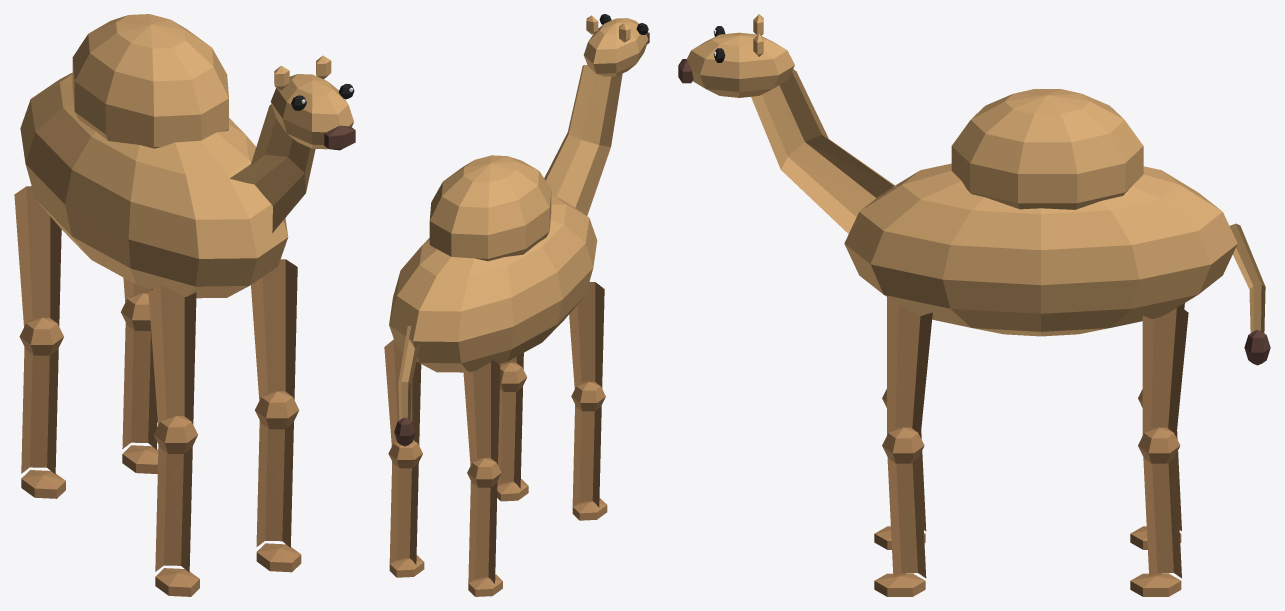
File: kamel.glb
3 renders of one model, left to right at view 1: azimuth 30°, elevation 25°; view 2: azimuth 150°, elevation 25°; view 3: azimuth 270°, elevation 25°, orthographic. The views are drawn at different scales.
Visible parts, largest first — view 1: kamel; view 2: kamel; view 3: kamel.
Boxes of the visible parts, left/top/right/bottom form: kamel: left=14, top=14, right=355, bottom=596; kamel: left=384, top=14, right=649, bottom=596; kamel: left=678, top=14, right=1270, bottom=596.
Bounding box in the file's own units: 0.6 × 1.84 × 1.81.
